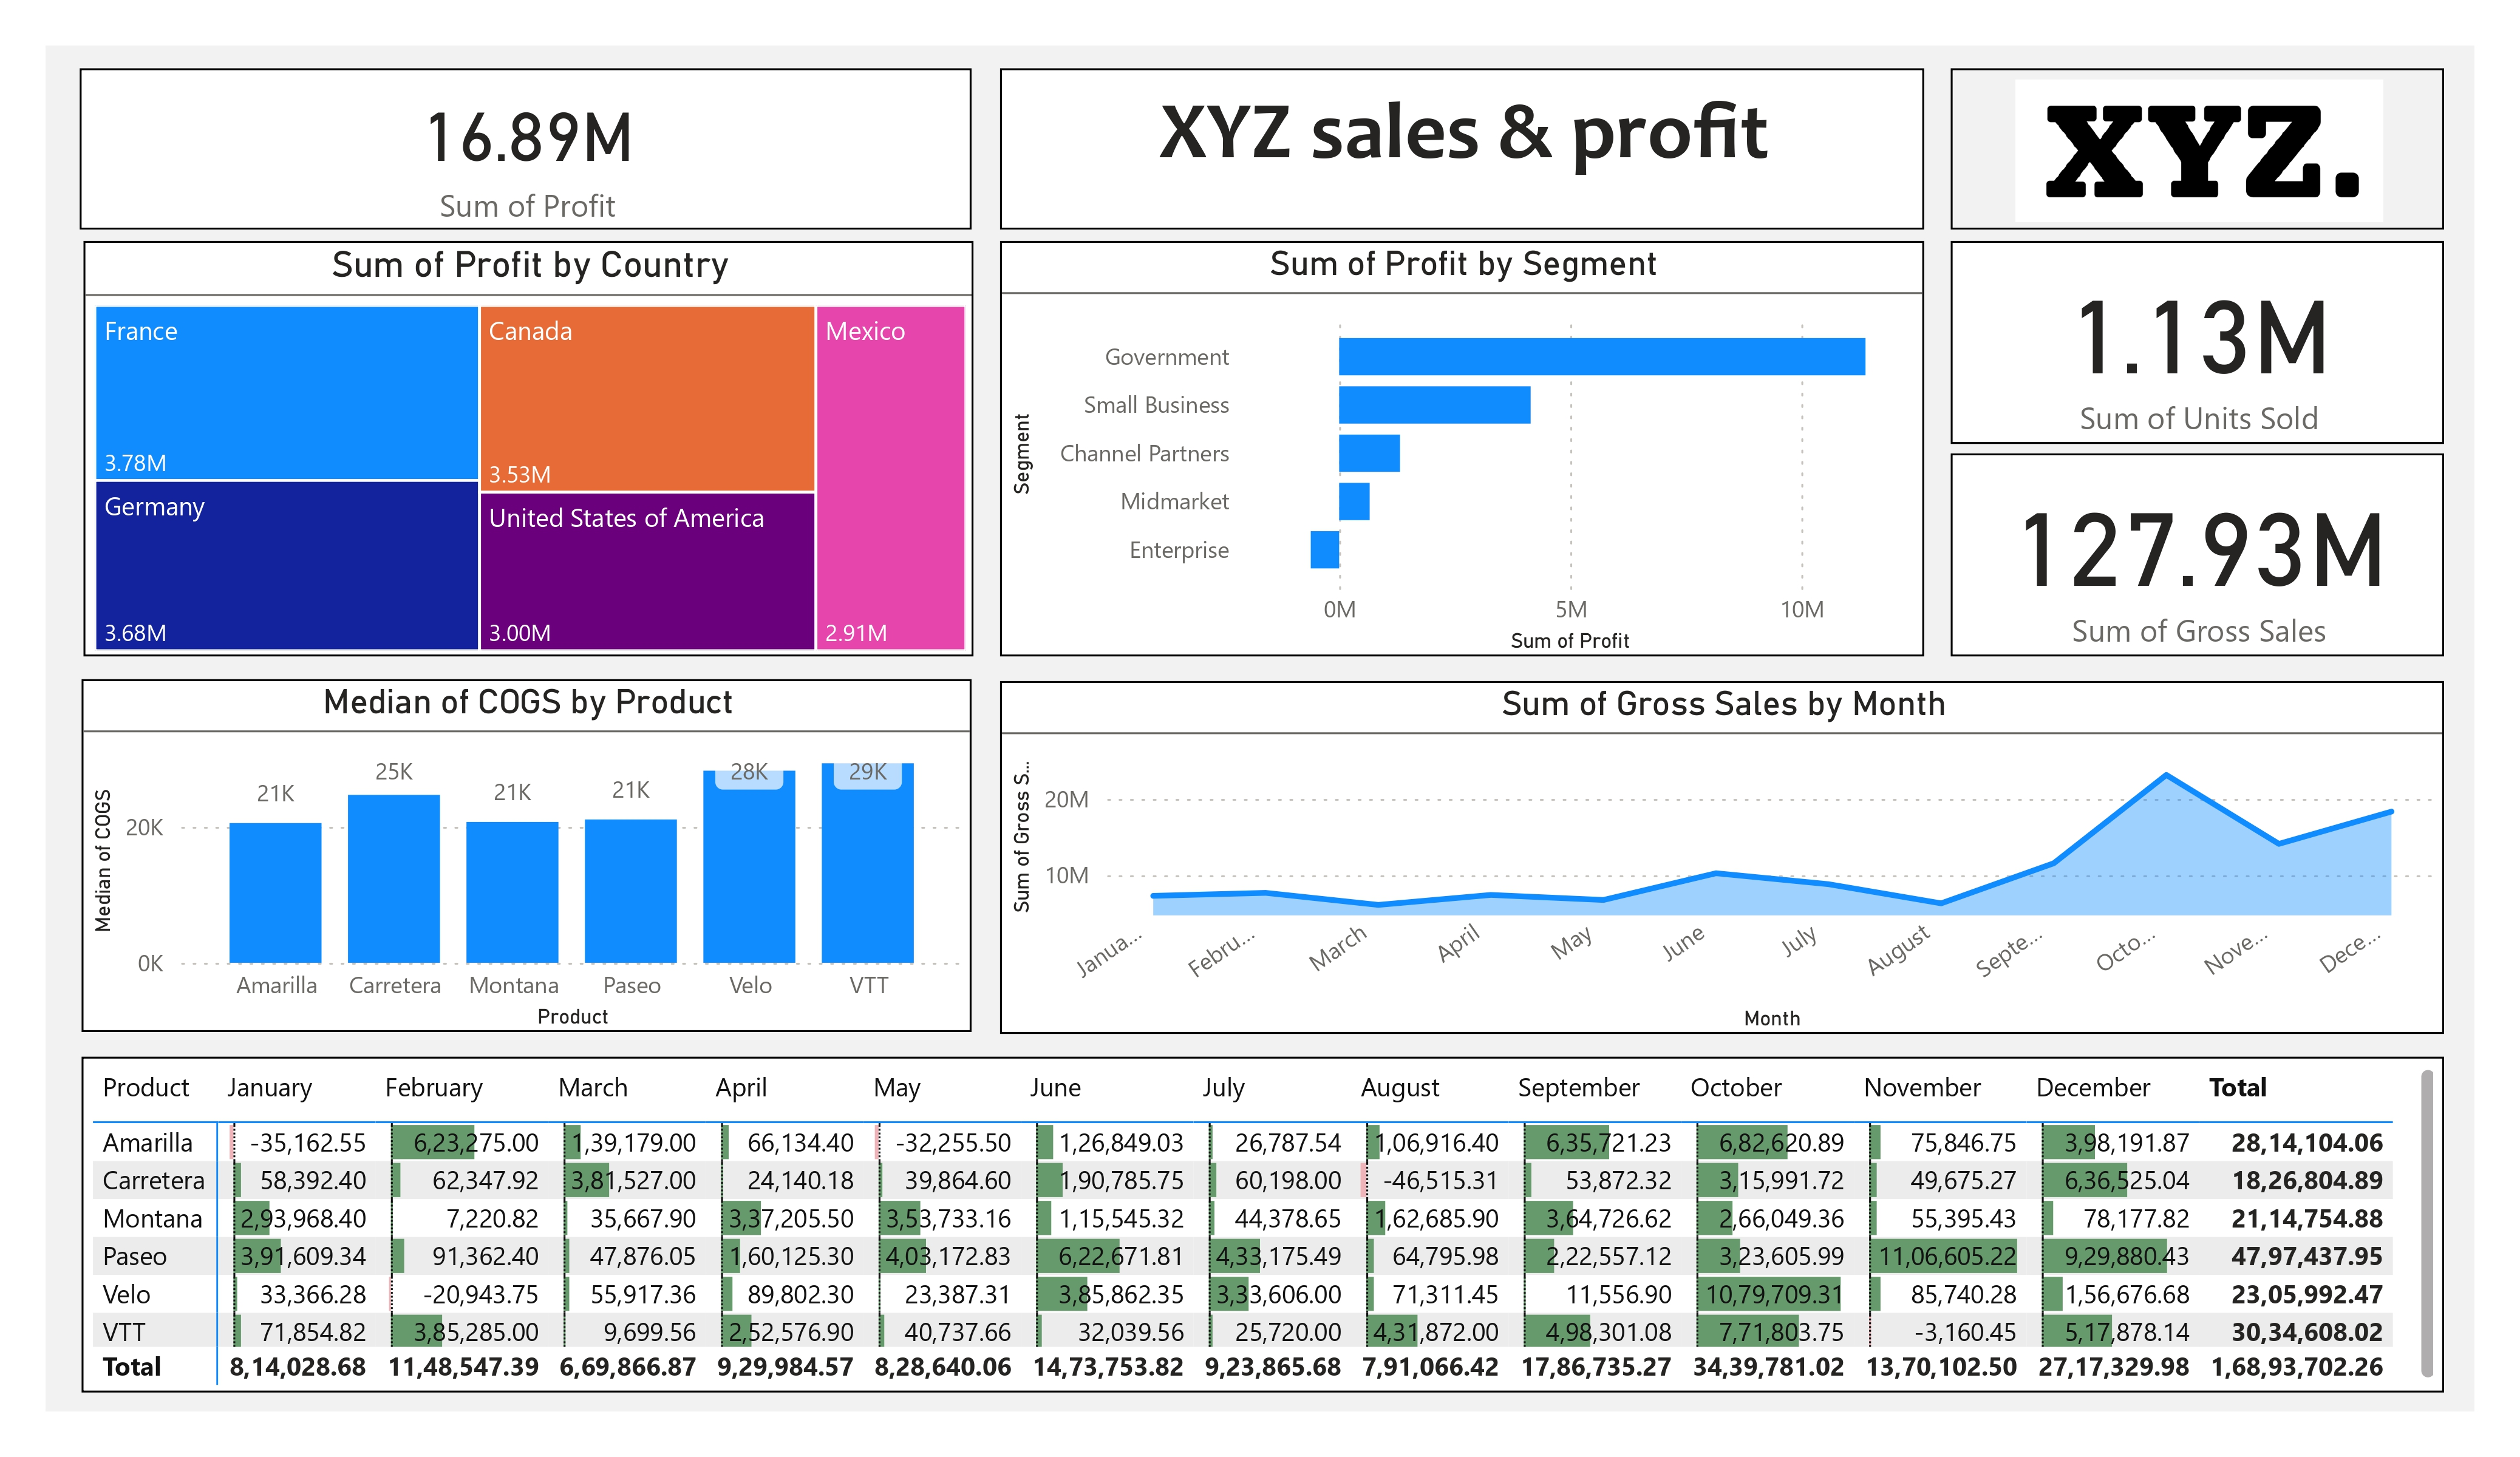

What the dashboard file says about the page in this screenshot:
{"tool":"powerbi","page":{"name":"Sales & Profit","canvas":[1280,720],"ordinal":0},"visuals":[{"type":"textbox","box":[503.3,12.3,486.9,85],"z":0},{"type":"card","fields":{"Values":["Sum(financials.Profit)"]},"box":[17.8,12.3,470.4,85],"z":1000},{"type":"treemap","fields":{"Group":["financials.Country"],"Values":["Sum(financials.Profit)"]},"box":[20.2,102.5,469.1,219],"z":2000},{"type":"card","fields":{"Values":["Sum(financials.Gross Sales)"]},"box":[1003.9,215.3,260.6,107],"z":3000},{"type":"lineStackedColumnComboChart","fields":{"Y":["Median(financials.COGS)"],"Category":["financials.Product"]},"box":[18.6,334,469.1,186.4],"z":4000},{"type":"pivotTable","fields":{"Rows":["financials.Product"],"Columns":["RF Table.Month"],"Values":["Sum(financials.Profit)"]},"box":[18.6,532.8,1245.8,177.1],"z":5000},{"type":"clusteredBarChart","fields":{"Category":["financials.Segment"],"Y":["Sum(financials.Profit)"]},"box":[503.3,102.9,486.9,219.4],"z":6000},{"type":"card","fields":{"Values":["Sum(financials.Units Sold)"]},"box":[1003.9,102.9,260.6,107],"z":7000},{"type":"areaChart","fields":{"Y":["Sum(financials.Gross Sales)"],"Category":["RF Table.Month"]},"box":[503.3,334.6,761.1,186.5],"z":8000},{"type":"image","box":[1003.9,12.3,260.6,85],"z":9000}]}

Visuals, with their boxes in screenshot pixels (x1, y1, x2, y2):
textbox: region(1001, 69, 1924, 230)
card - Sum(financials.Profit): region(80, 69, 972, 230)
treemap - financials.Country x Sum(financials.Profit): region(84, 240, 974, 656)
card - Sum(financials.Gross Sales): region(1950, 454, 2445, 657)
lineStackedColumnComboChart - Median(financials.COGS) x financials.Product: region(81, 679, 971, 1033)
pivotTable - financials.Product x RF Table.Month: region(81, 1056, 2445, 1392)
clusteredBarChart - financials.Segment x Sum(financials.Profit): region(1001, 241, 1924, 657)
card - Sum(financials.Units Sold): region(1950, 241, 2445, 444)
areaChart - Sum(financials.Gross Sales) x RF Table.Month: region(1001, 681, 2445, 1034)
image: region(1950, 69, 2445, 230)
